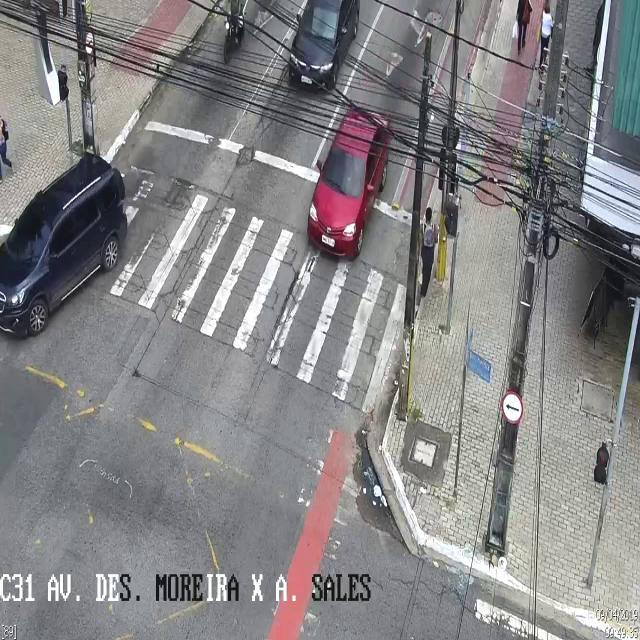Car: (0, 154, 126, 337), (309, 102, 385, 260), (286, 1, 360, 90)
Motorcycle: (225, 1, 249, 60)
